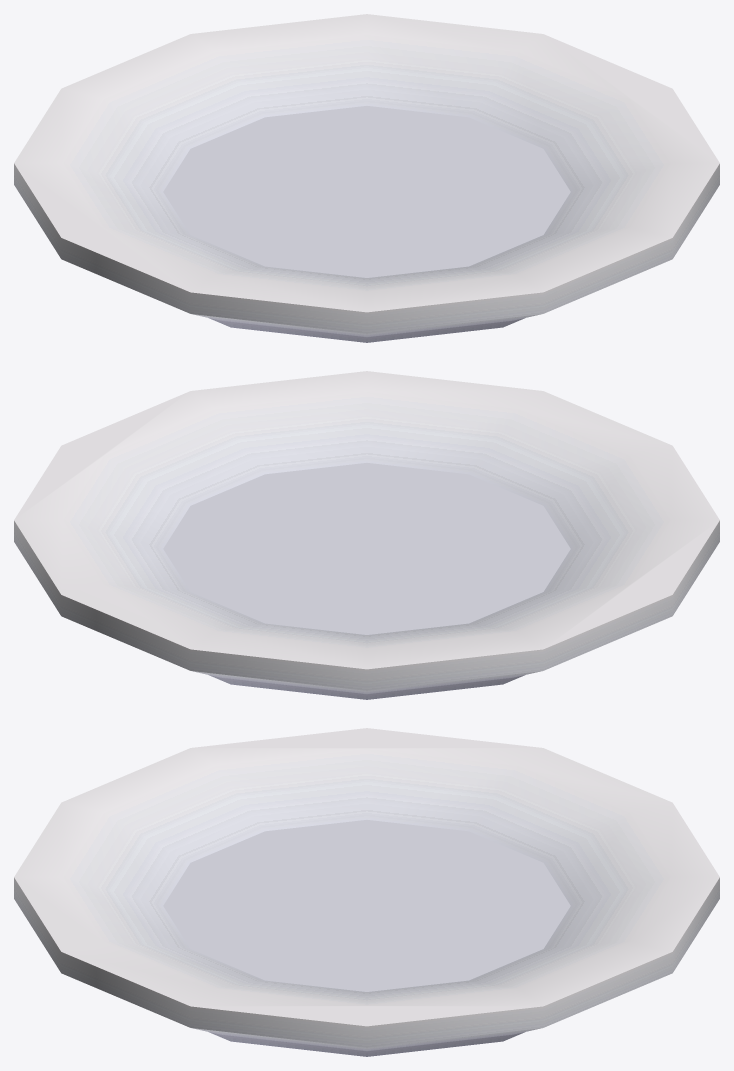
The model's file is plate.glb.
3 views of the same model, one above another, from view 1: azimuth 30°, elevation 25°; view 2: azimuth 150°, elevation 25°; view 3: azimuth 270°, elevation 25° (orthographic).
Parts seen in each view (by area): view 1: plate; view 2: plate; view 3: plate.
Part boxes in pixels (left/top/right/bottom): plate: left=14, top=14, right=719, bottom=342; plate: left=14, top=371, right=719, bottom=699; plate: left=14, top=728, right=719, bottom=1056.
Size of the model in its own units: 0.8918 by 0.09 by 0.8918.
Materials: 1 (1 with a texture image).
